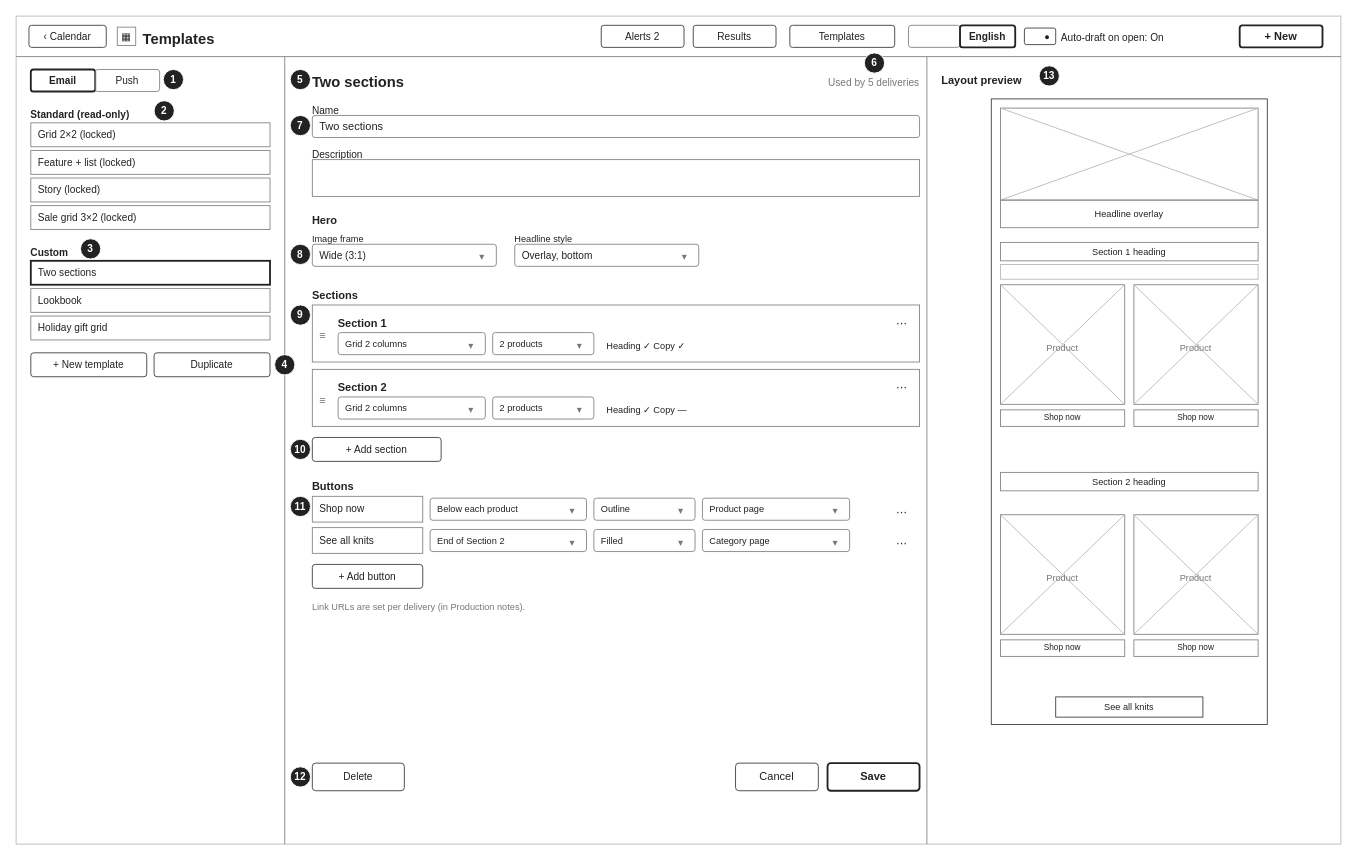
Image size: 1358x861. Some labels were removed from this diagram. The shapes that lost their labels are listed below. From the top down, each one's centre as x and y in pixels, then its label:
[934,35]: 日本語
[1129,153]: Hero (wide)
[615,177]: Two themes, two products each. For deliveries that pair two ideas.
[1129,271]: Copy
